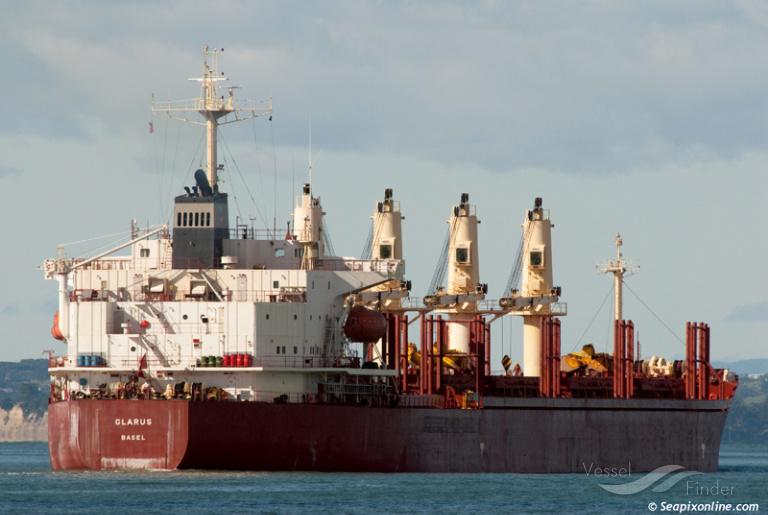OCR: (106, 412, 160, 448)
